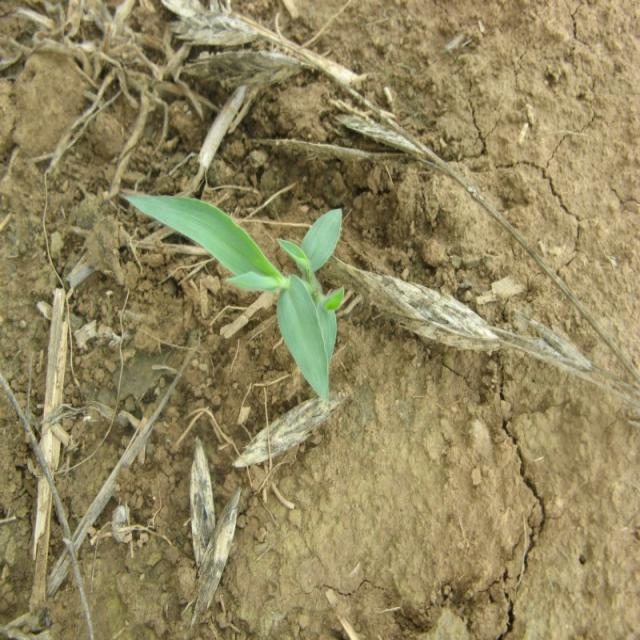bg: (119, 192, 347, 397)
